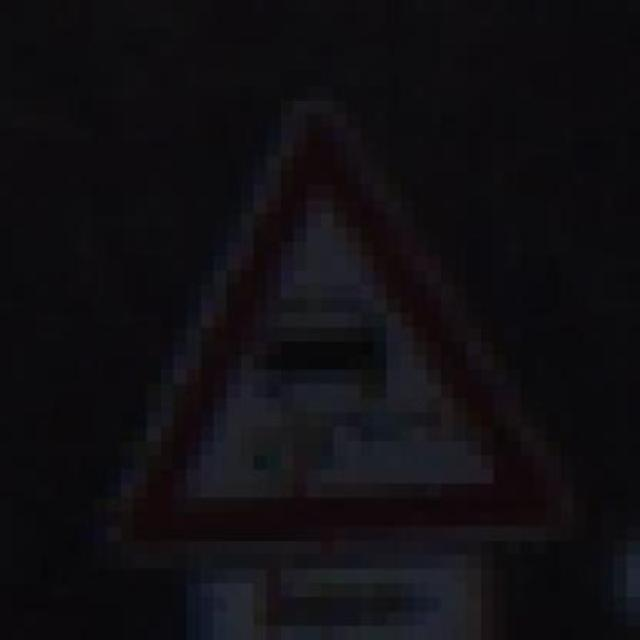Slippery Road Ahead: (80, 57, 560, 555)
